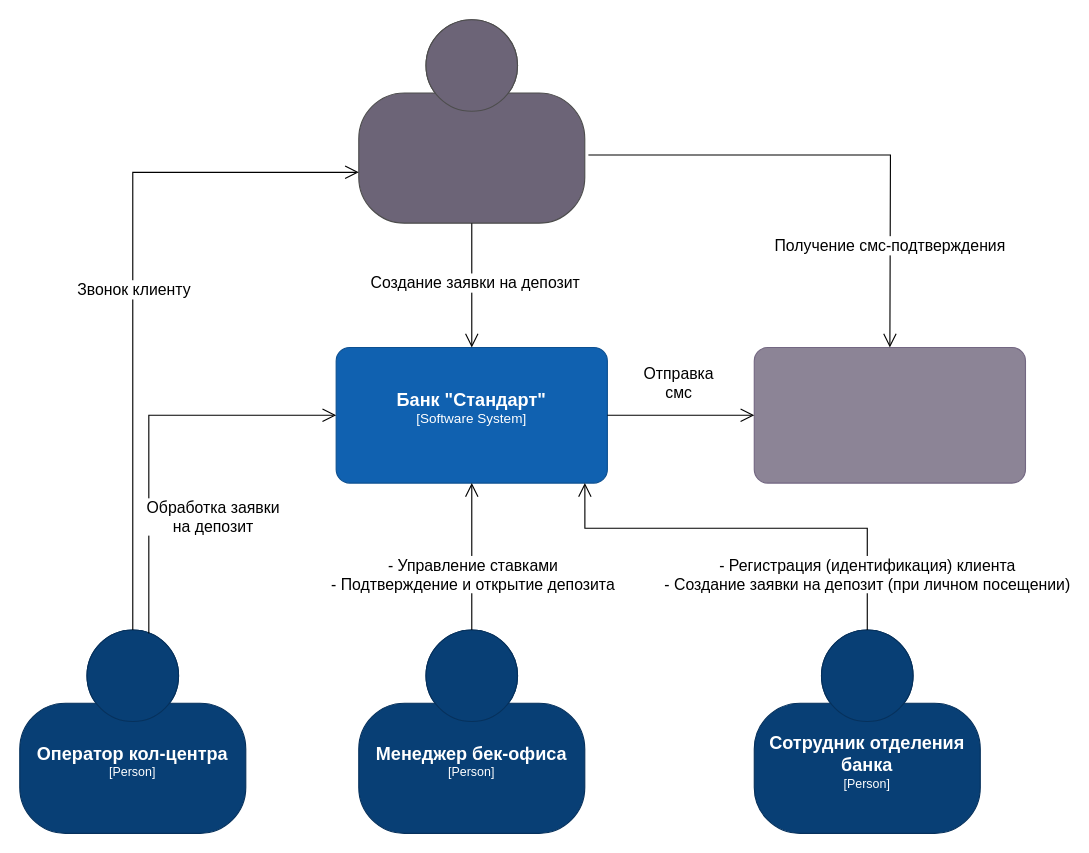
The diagram is 1089 pixels wide and 853 high, and some of its shapes have lost their labels. Each missing label, with the centre of its shape:
"Клиент банка [Person]" goes at pixel 471 121.
"Телеком-оператор [Software System]" goes at pixel 889 414.
